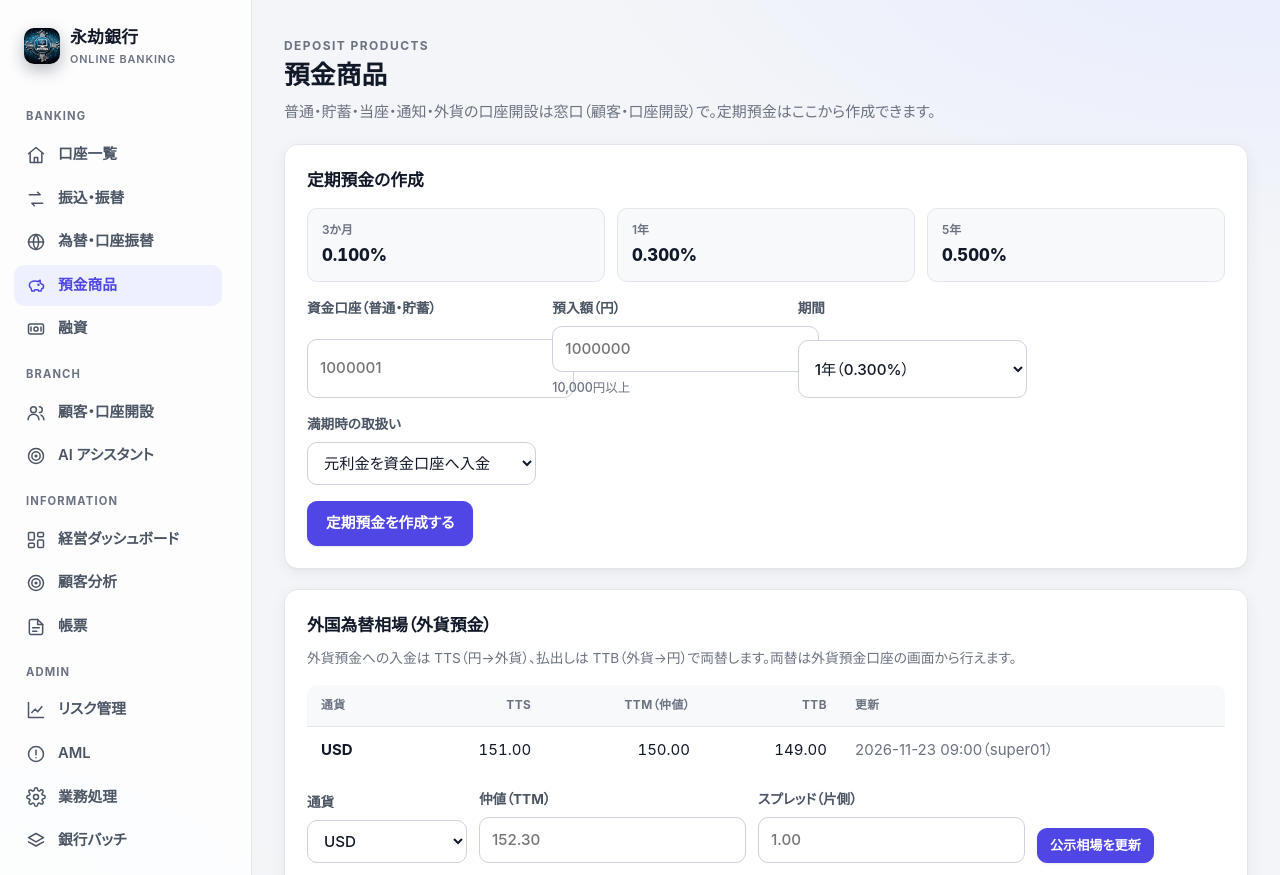
it: DepositsPage › 役席：公示相場を更新できる
Select "EUR" in the dropdown labelled "通貨". click: (387, 842)
box: [307,820,467,863]
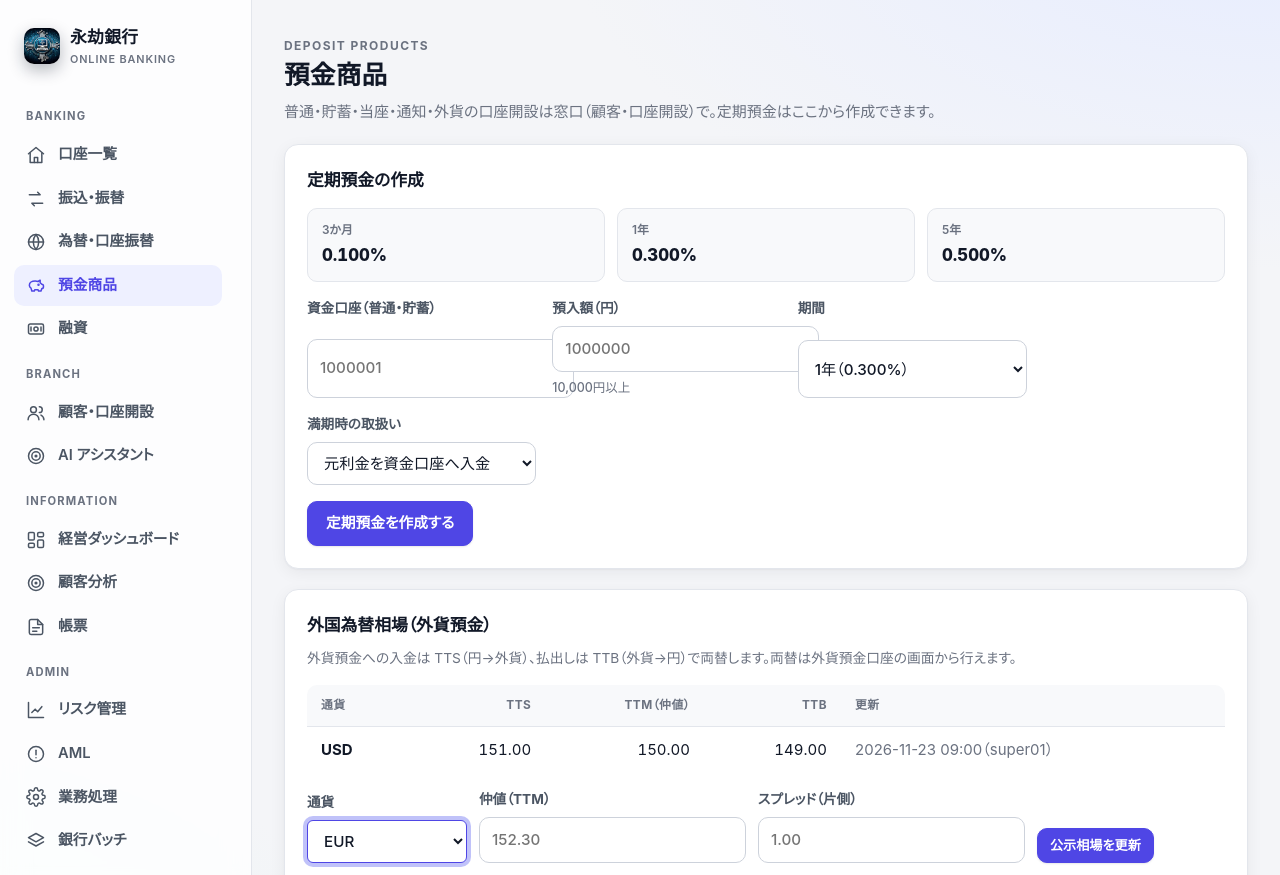
Type "162.5" into the field labelled "仲値（TTM）". click: (612, 840)
box: [479,817,746,863]
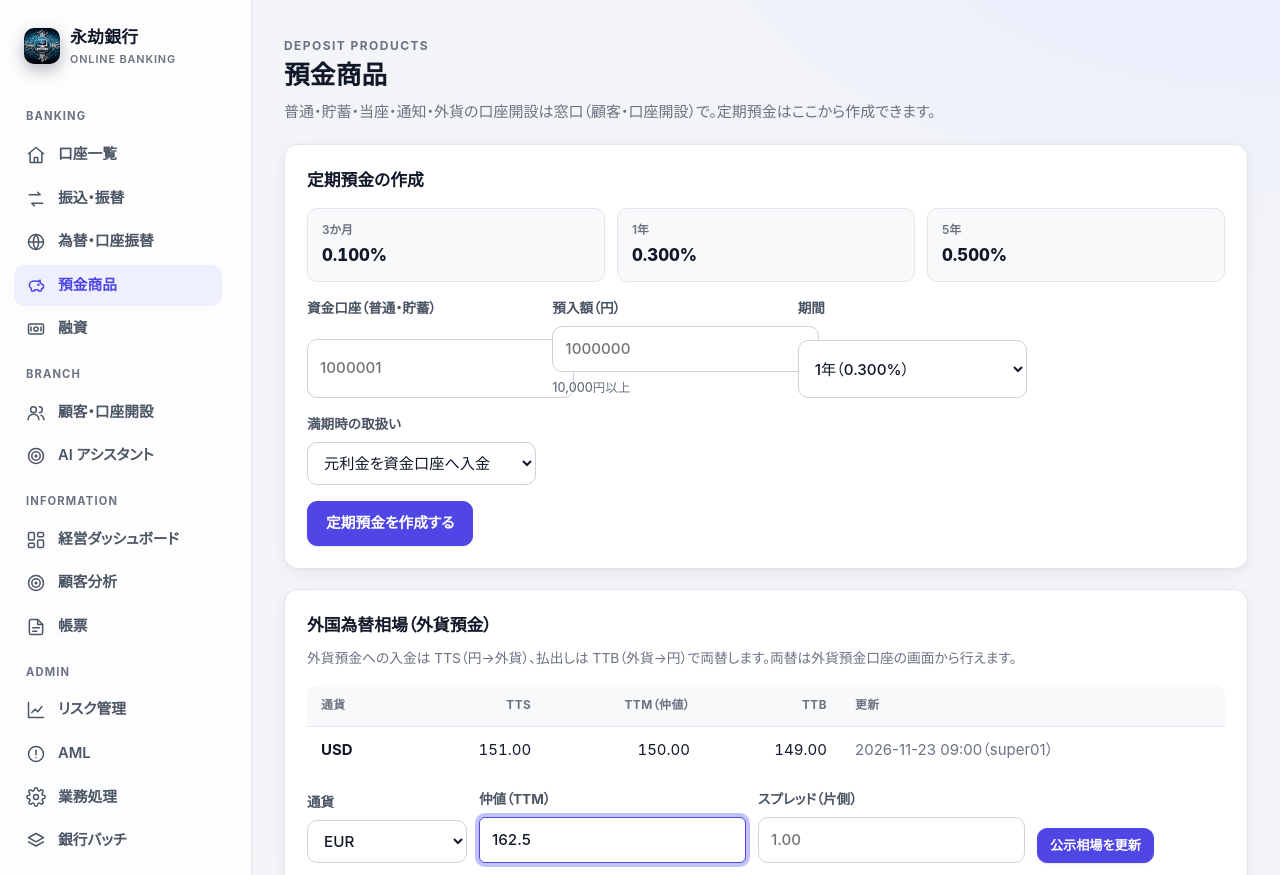
Type "1.5" into the field labelled "スプレッド（片側）". click: (892, 840)
box: [758,817,1025,863]
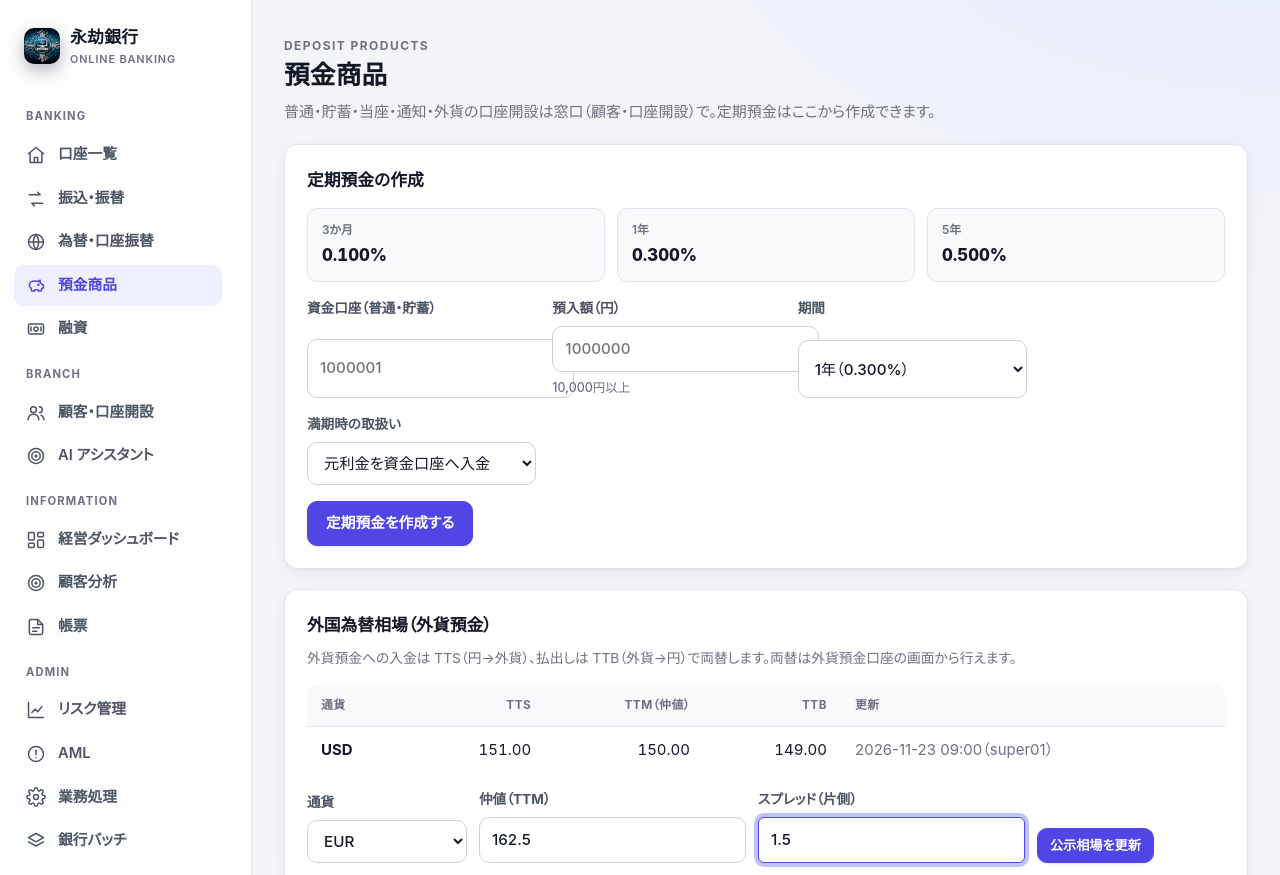
Click the button "公示相場を更新". click: click(1095, 846)
box: [1037,828,1154,863]
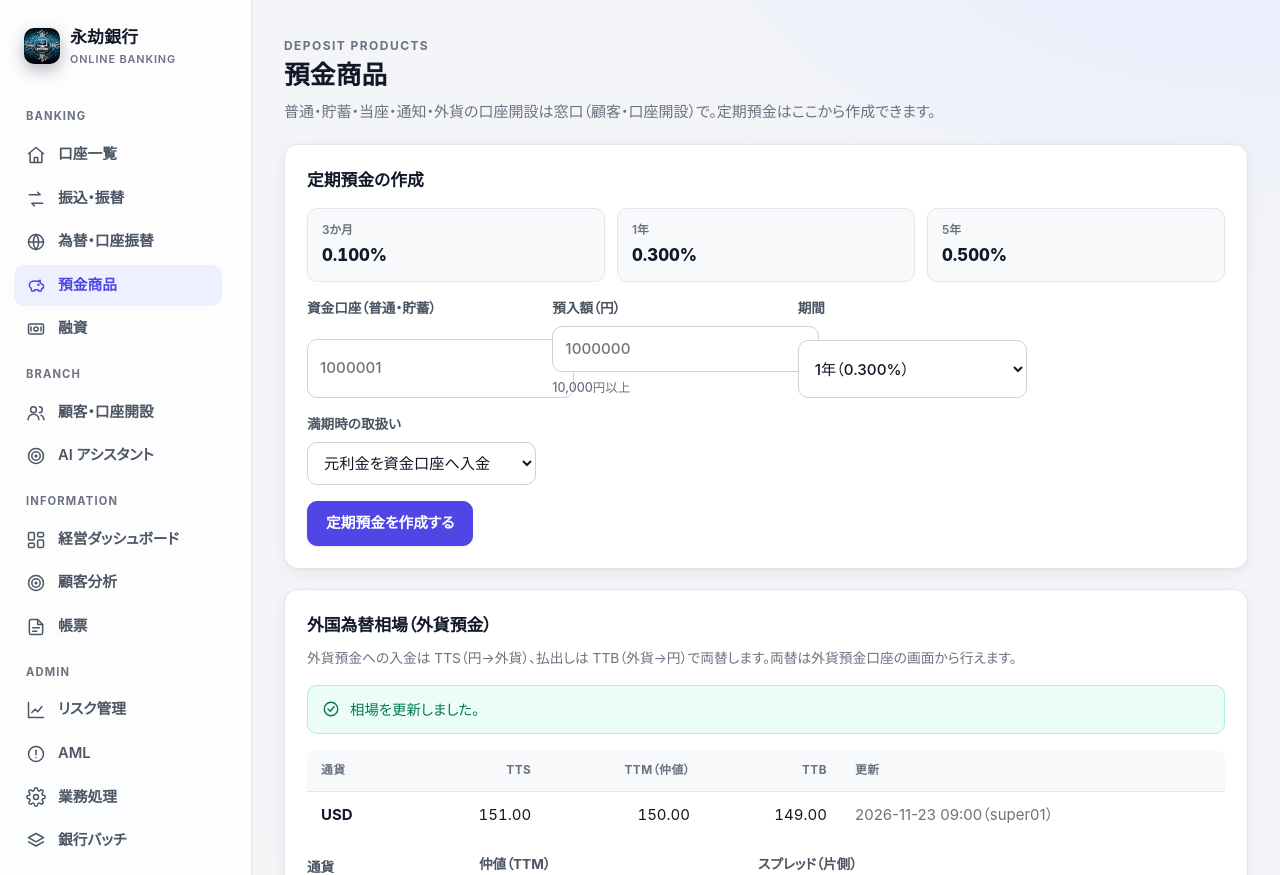
Check: the text "相場を更新しました。" is shown, box [350,698,479,721]
